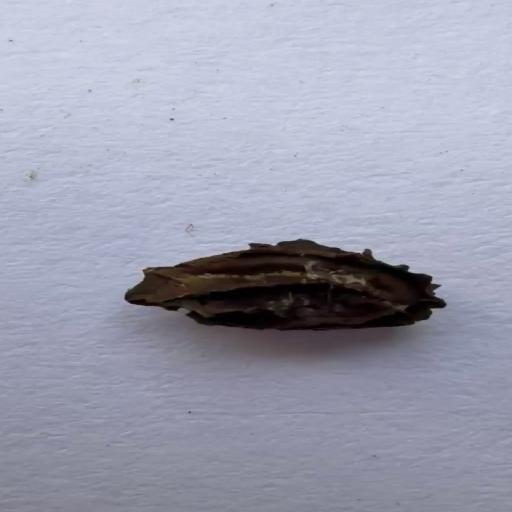papaya_seed: (102, 221, 480, 352)
